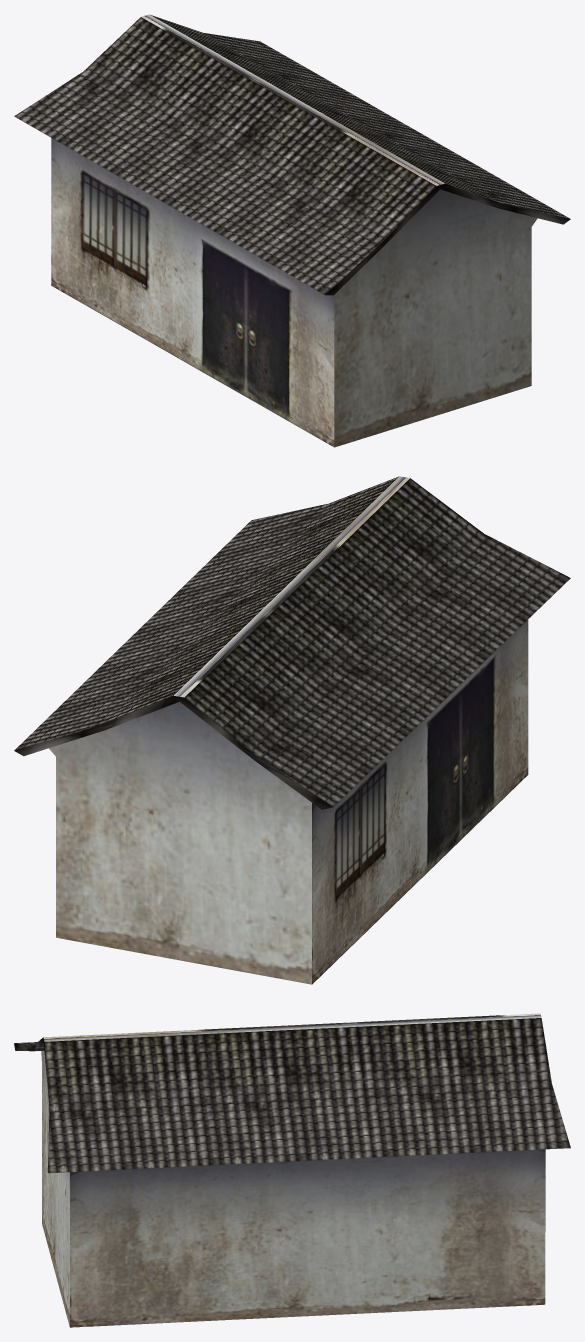
The model's file is ian1559.obj.
3 renders of one model, top to bottom at view 1: azimuth 30°, elevation 25°; view 2: azimuth 150°, elevation 25°; view 3: azimuth 270°, elevation 25°, orthographic. The views are drawn at different scales.
Parts seen in each view (by area): view 1: ian1559; view 2: ian1559; view 3: ian1559.
Boxes of the visible parts, x1,y1,x2,y2 form: ian1559: [14, 14, 570, 447]; ian1559: [14, 476, 570, 984]; ian1559: [14, 1013, 570, 1327].
Bounding box in the file's own units: 138 × 99.21 × 211.
